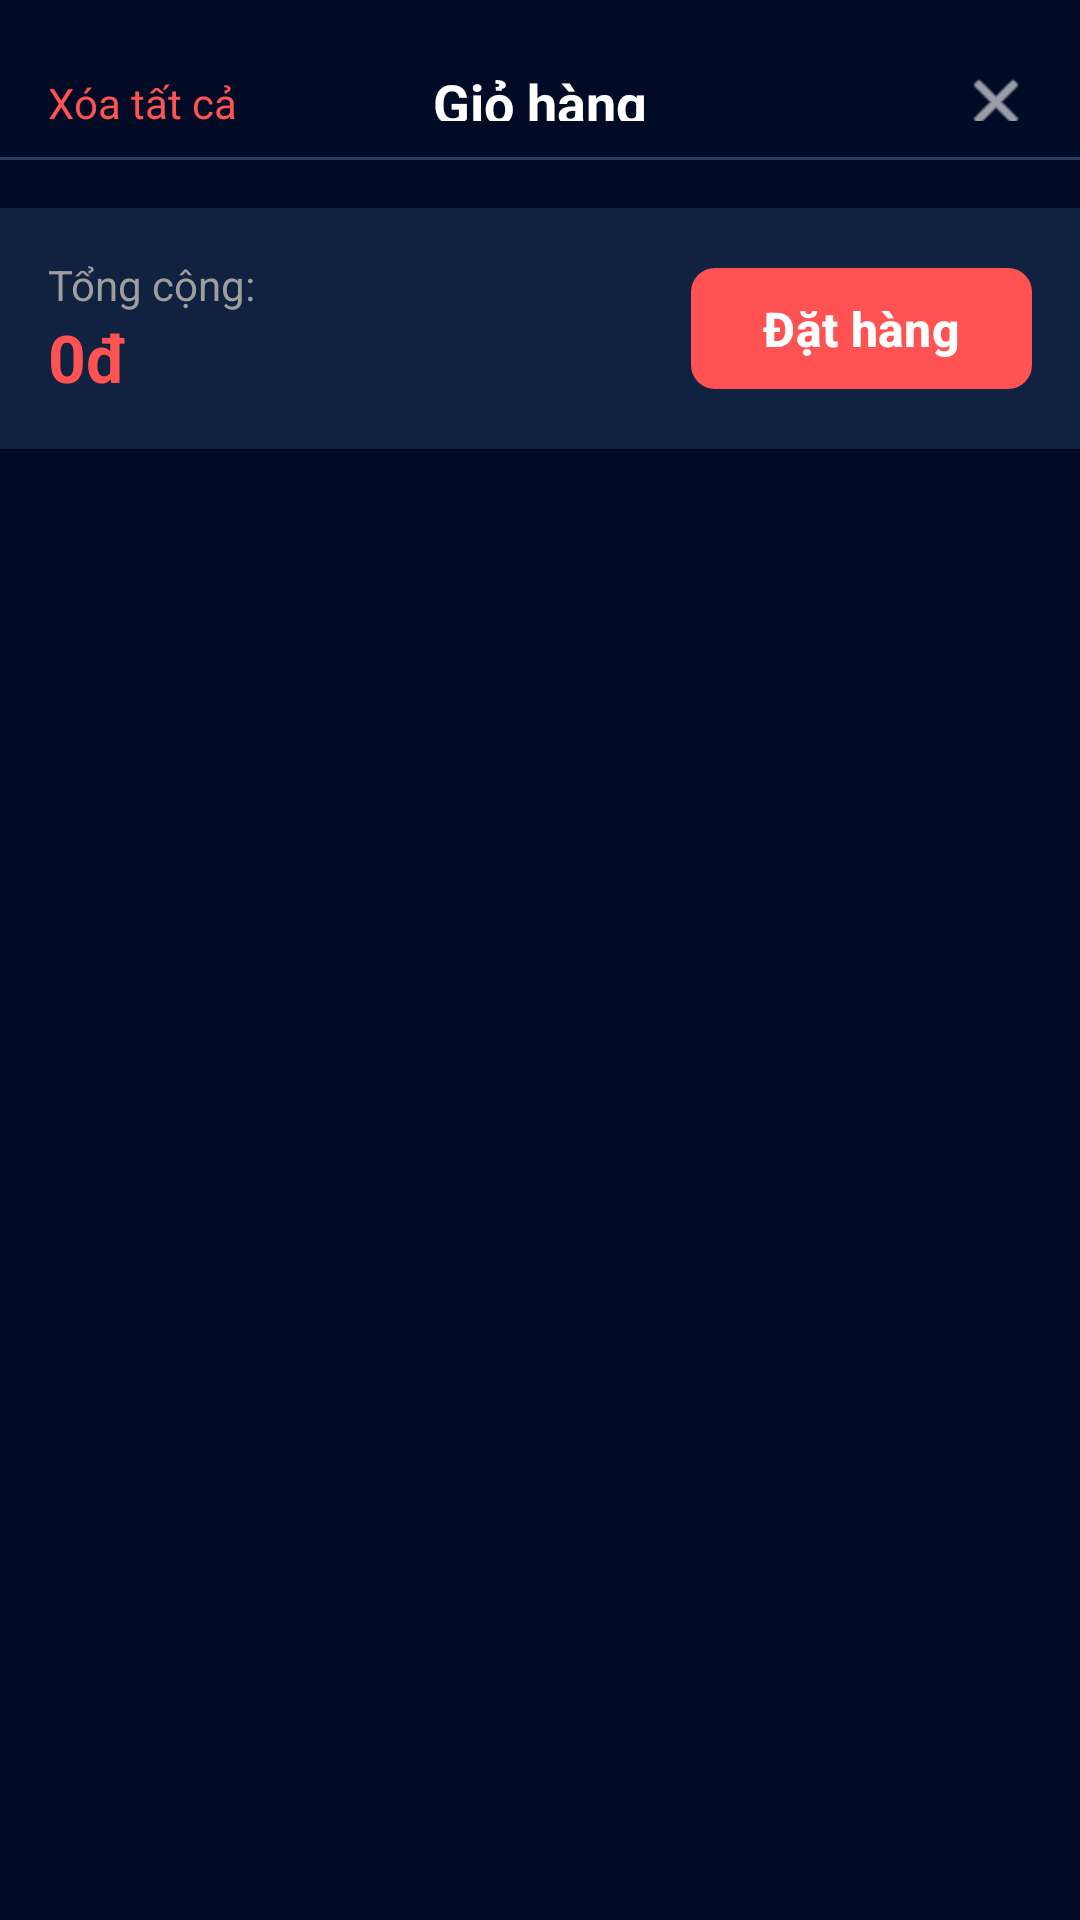

Where to tap for icons on this 1080*1920 app screen, as point (x, y):
close clear cancel: point (996, 100)
